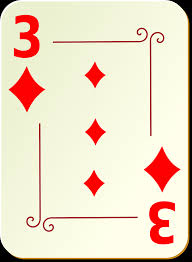three of diamonds: (7, 5, 182, 250)
